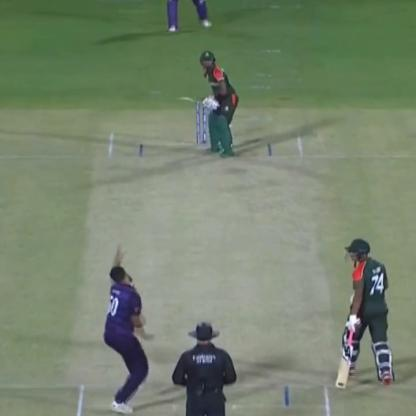bat: (330, 322, 356, 390), (175, 90, 215, 114)
pitch: (80, 119, 344, 416)
